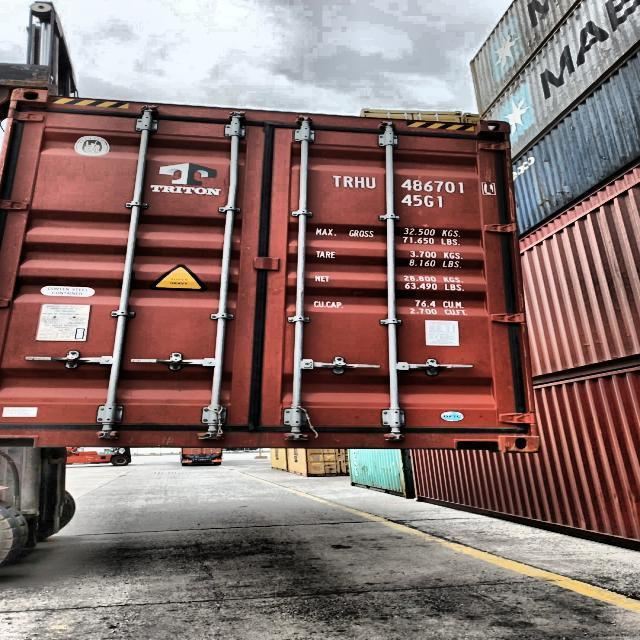ISO: (392, 193, 446, 210)
container_number: (326, 167, 498, 195)
